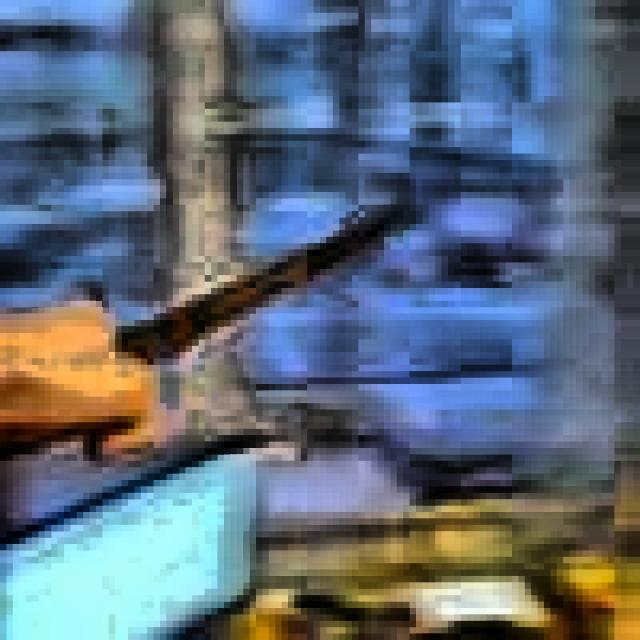knife: (118, 213, 411, 363)
